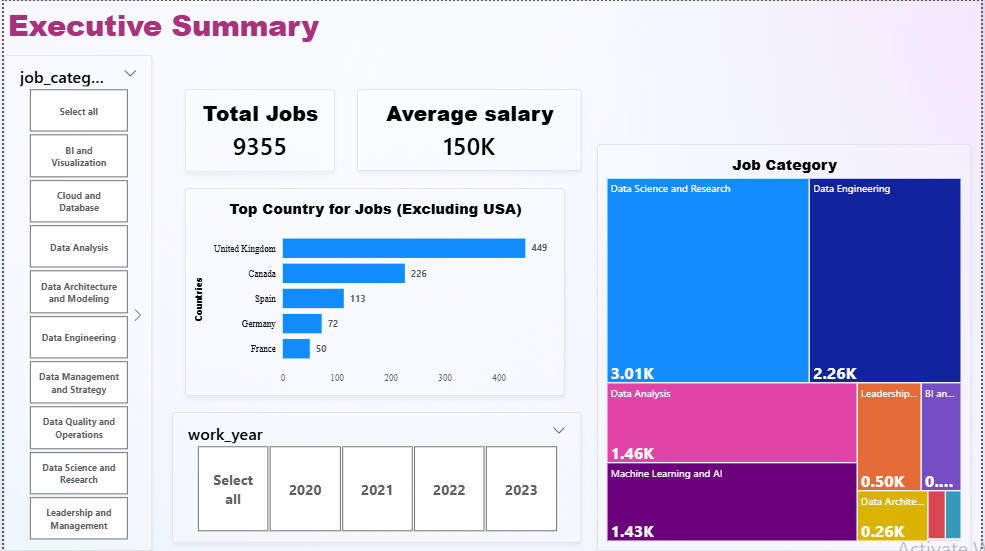

Layout of this report page (visuals, bound fields, positions):
{"tool":"powerbi","page":{"name":"Page 1","canvas":[1280,720],"ordinal":0},"visuals":[{"type":"clusteredBarChart","title":"Top Country for Jobs (Excluding USA)","fields":{"Category":["Table1.company_location"],"Y":["CountNonNull(Table1.job_title)"]},"box":[237.6,244.8,496.8,272.2],"z":0},{"type":"card","title":"Total Jobs","fields":{"Values":["CountNonNull(Table1.job_title)"]},"box":[237.6,115.2,195.8,108],"z":1000},{"type":"card","title":"Average salary","fields":{"Values":["Avg(Table1.salary_in_usd)"]},"box":[462.2,115.2,293.8,106.6],"z":2000},{"type":"slicer","fields":{"Values":["Table1.job_category"]},"box":[0,70.6,194.4,649.4],"z":3000},{"type":"treemap","title":"Job Category","fields":{"Values":["CountNonNull(Table1.job_title)"],"Group":["Table1.job_category"]},"box":[776.3,187.2,489.6,532.8],"z":4000},{"type":"slicer","fields":{"Values":["Table1.work_year"]},"box":[220.3,538.6,535.7,171.4],"z":5000},{"type":"textbox","box":[0,0,1280.2,70.6],"z":6000}]}

Visuals, with their boxes on the page's 1280x720 design canvas (x1, y1, x2, y2). These are canvas units, not pixel positions in the 985x551 screenshot, which may show the page scaled, cropped or inside an application window:
"Top Country for Jobs (Excluding USA)" clusteredBarChart: box(238, 245, 734, 517)
"Total Jobs" card: box(238, 115, 433, 223)
"Average salary" card: box(462, 115, 756, 222)
slicer - Table1.job_category: box(0, 71, 194, 720)
"Job Category" treemap: box(776, 187, 1266, 720)
slicer - Table1.work_year: box(220, 539, 756, 710)
textbox: box(0, 0, 1280, 71)
